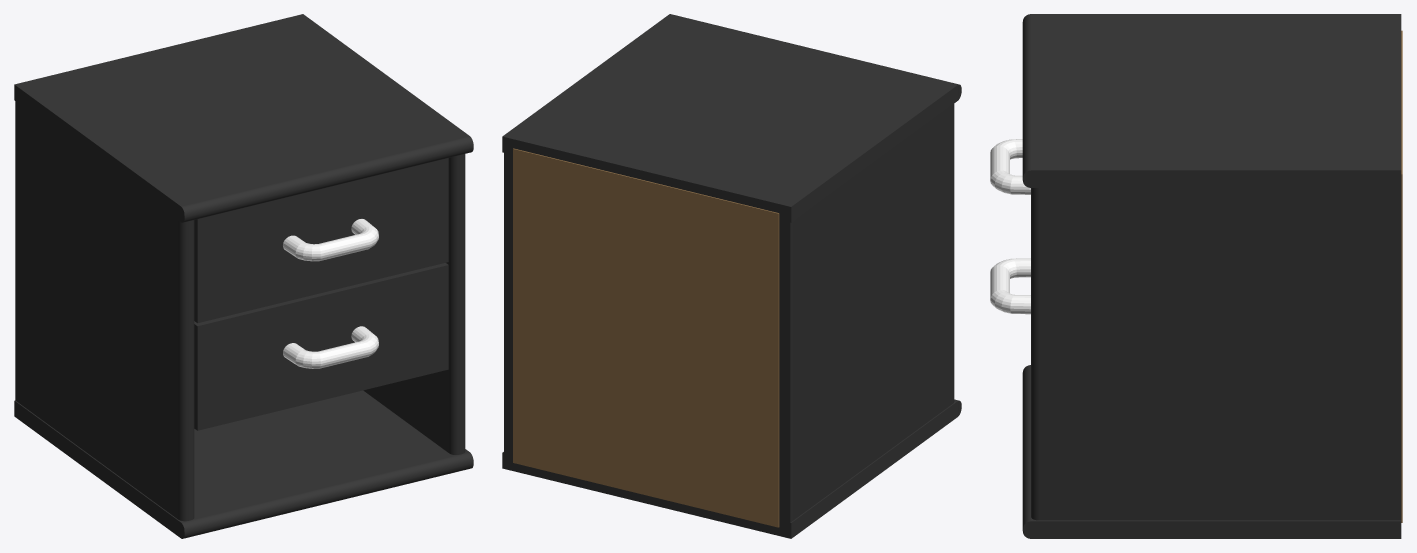
Rendered from schrankklein.fbx.
3 renders of one model, left to right at view 1: azimuth 30°, elevation 25°; view 2: azimuth 150°, elevation 25°; view 3: azimuth 270°, elevation 25°, orthographic. The views are drawn at different scales.
Parts seen in each view (by area): view 1: Bedk1, Bedk1Sch2, Bedk1Sch1; view 2: Bedk1; view 3: Bedk1, Bedk1Sch2, Bedk1Sch1.
Part boxes in pixels (bbox=[...]): Bedk1: bbox=[14, 14, 473, 538]; Bedk1Sch2: bbox=[194, 263, 448, 430]; Bedk1Sch1: bbox=[194, 158, 448, 323]; Bedk1: bbox=[502, 14, 961, 538]; Bedk1: bbox=[1022, 14, 1402, 538]; Bedk1Sch2: bbox=[990, 258, 1030, 314]; Bedk1Sch1: bbox=[990, 139, 1030, 194].
Size of the model in its own units: 2.34 by 2.57 by 2.61.
